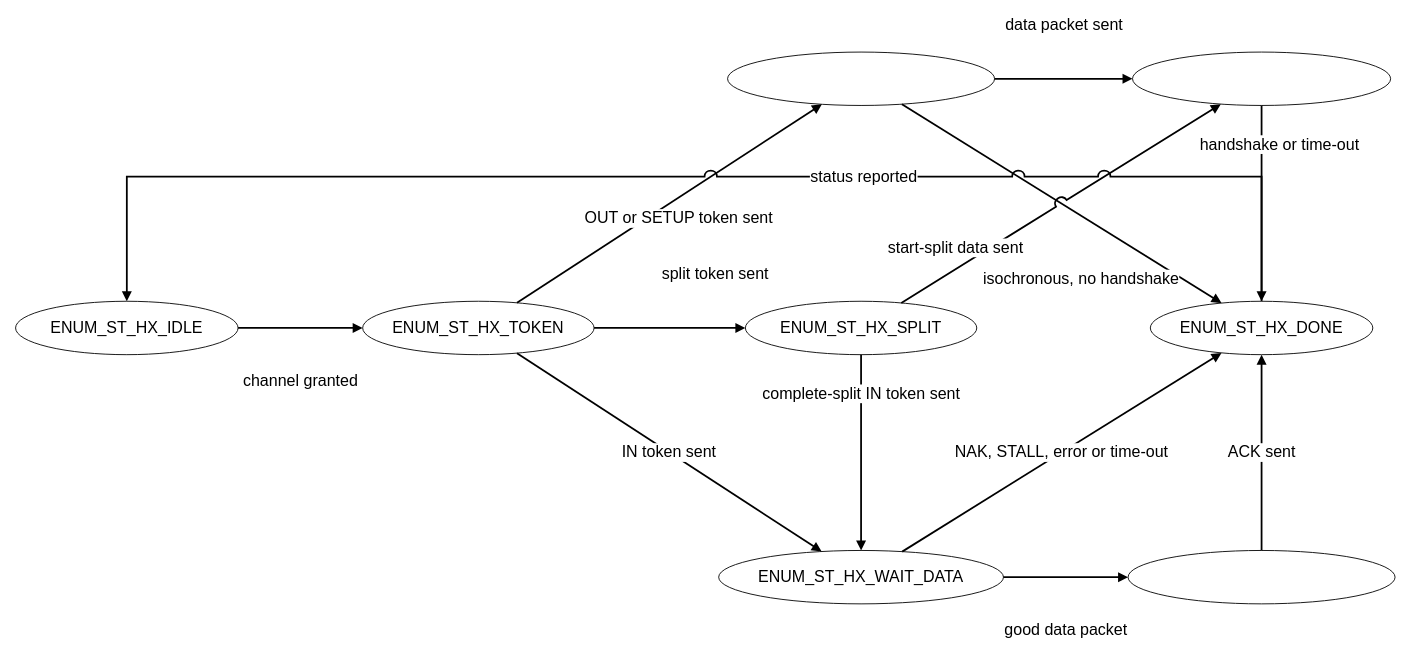
The diagram is 1411 pixels wide and 655 high, and some of its shapes have lost their labels. The shapes that lost their labels are listed below. From the top down, each one's box as (x1, y1, x2, y2) in pixels, then its label:
(727, 51, 995, 105): ENUM_ST_HX_OUT_DATA
(1132, 51, 1391, 105): ENUM_ST_HX_WAIT_HS
(1127, 550, 1395, 604): ENUM_ST_HX_SEND_ACK
